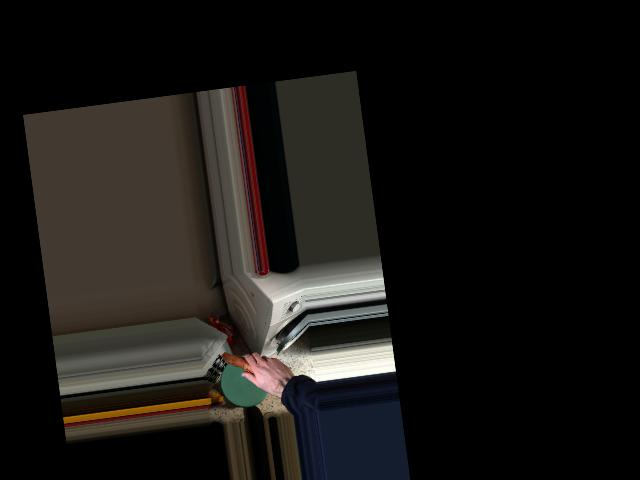sweet_potato: (223, 345, 278, 390)
